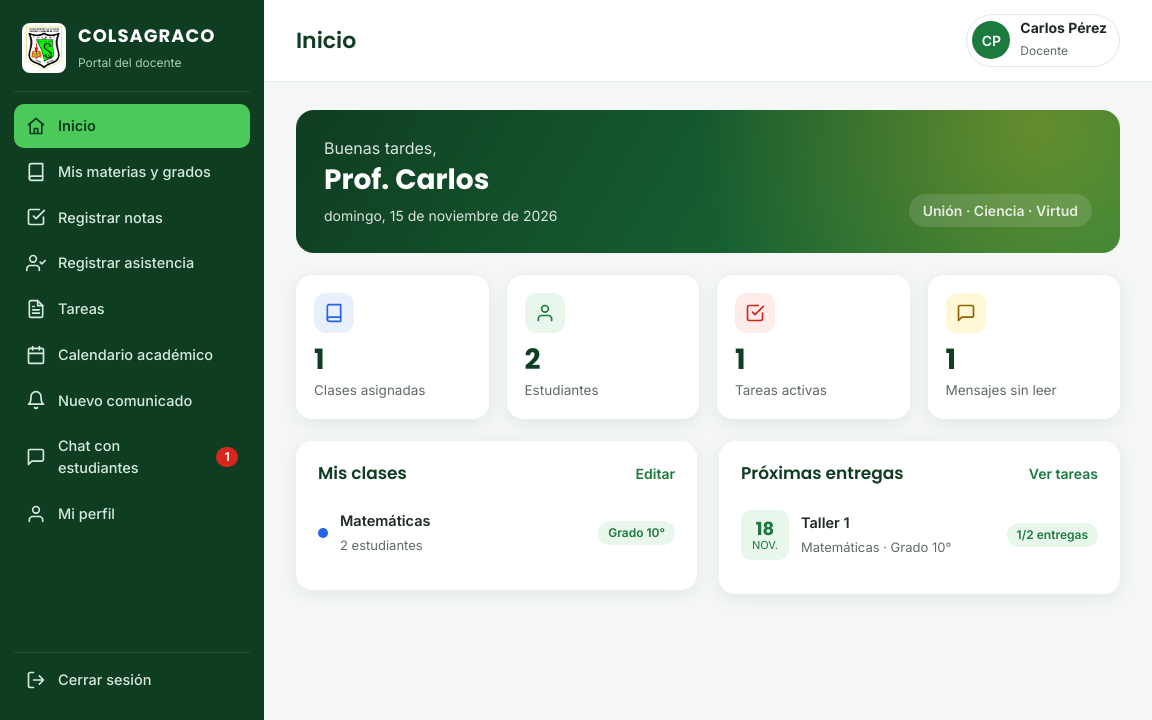
Scenario: Plataforma del docente › Mis materias: bloquea los grados de otros docentes y guarda la selección
The image size is (1152, 720).
Check: the heading "Prof. Carlos" is shown, box [324,160,489,199]
Click the button "Mis materias y grados". click: (132, 172)
box: [14,150,250,194]
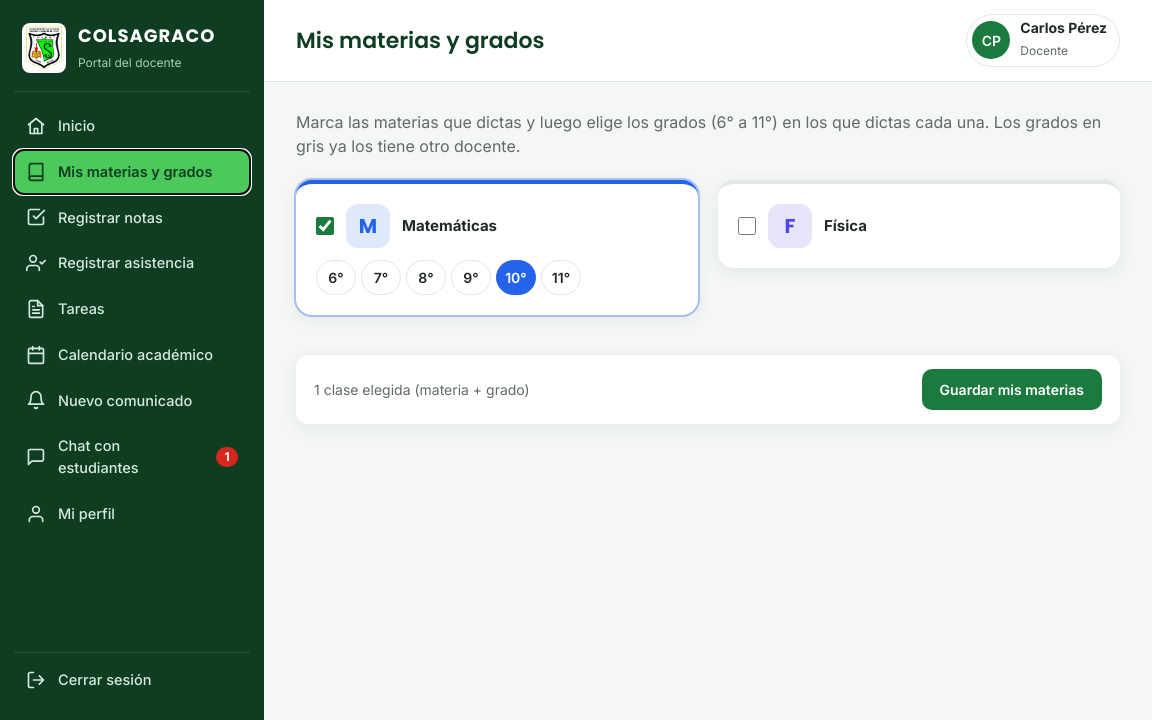
Click the checkbox labelled "F Física". click: (747, 226)
box: [738,217,756,235]
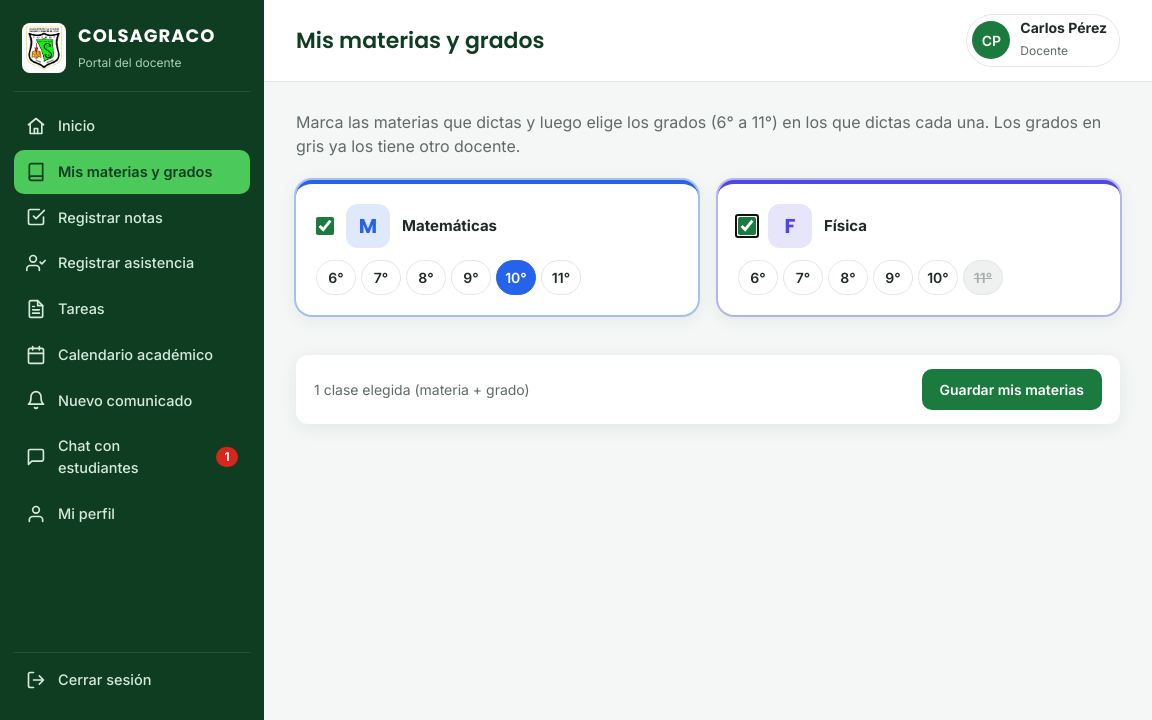
Check: the button "11°" below "Física" is disabled, box [963,260,1003,295]
Click the button "Guardar mis materias". click: (1012, 389)
box: [922,369,1102,410]
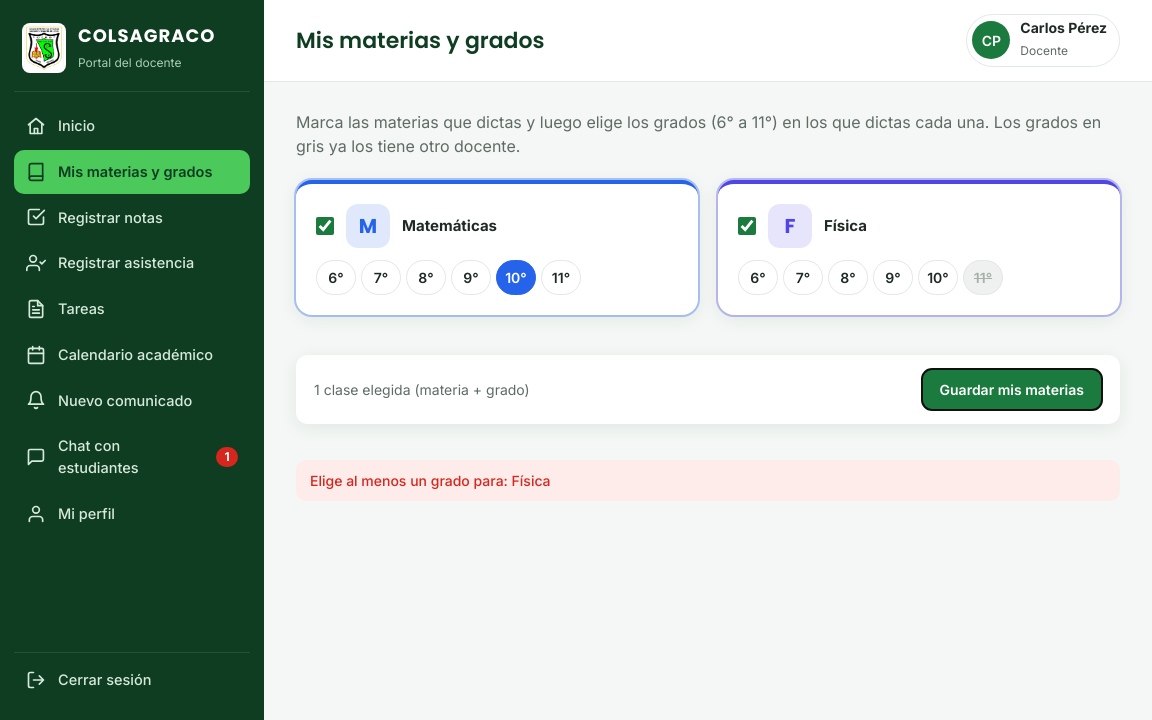
Check: the text "Elige al menos un grado para: Física" is shown, box [296,460,1120,501]
Click the 2nd button "10°". click: (938, 277)
box: [918,260,958,295]
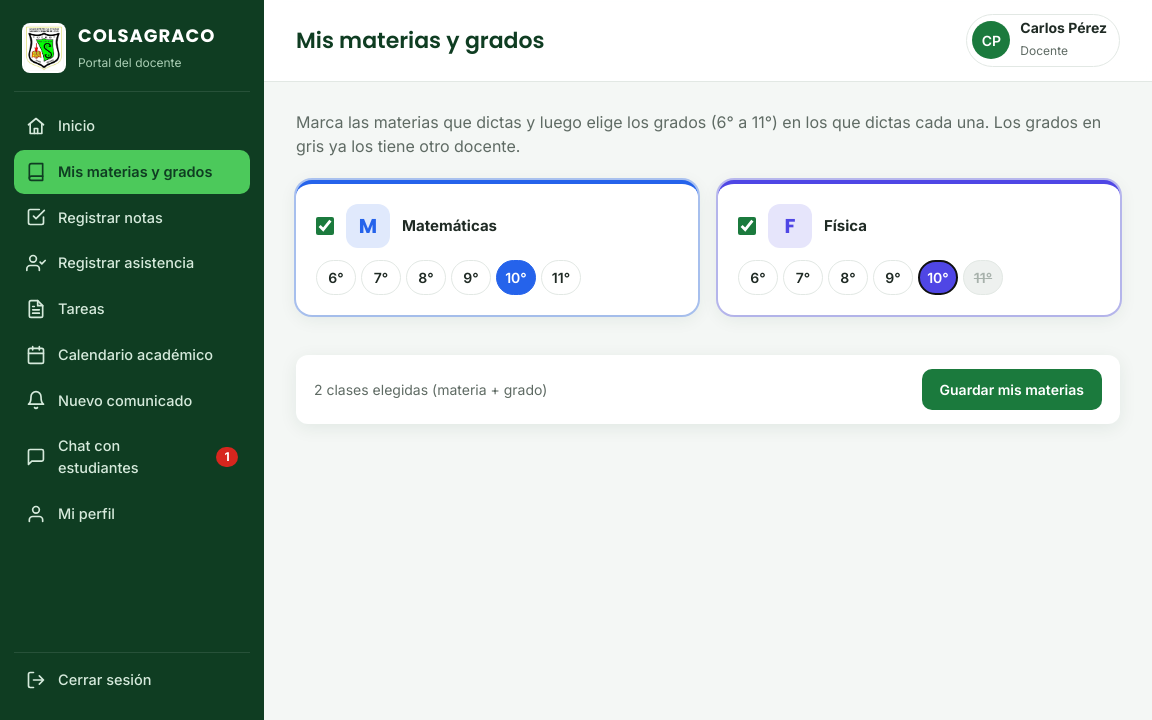
Click the button "Guardar mis materias". click: (1012, 389)
box: [922,369,1102,410]
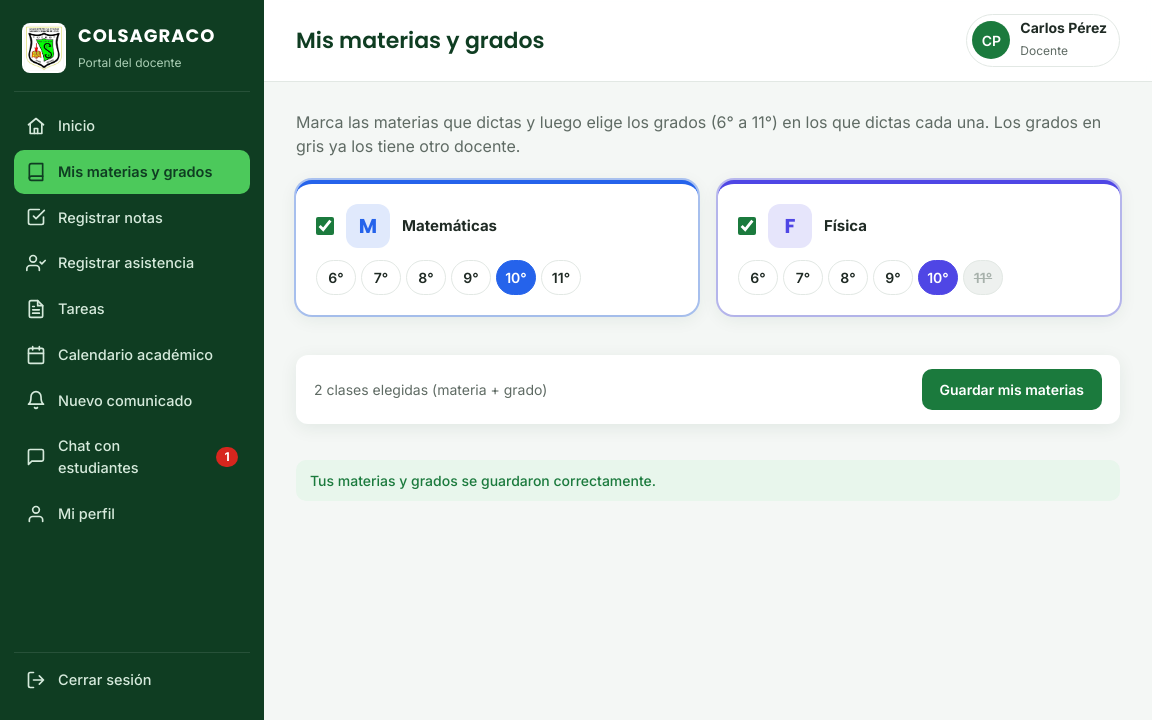
Check: the text "Tus materias y grados se guardaron correctamente." is shown, box [296,460,1120,501]
